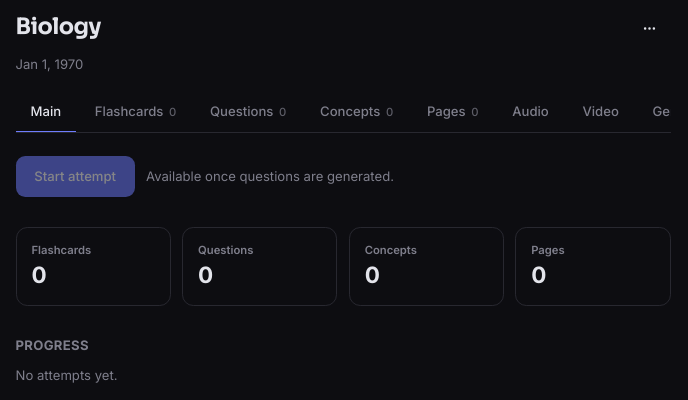
PrepPage concepts › shows an empty state when the prep has no concepts
The width and height of the screenshot is (688, 400).
What coordinates should you click on to do the following:
click the tab "Concepts0"
I would click on:
 (357, 113)
Its box is [305, 92, 408, 133].
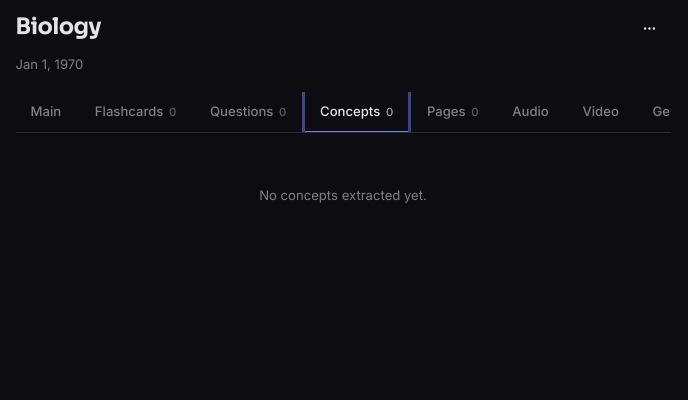
Expected: the text "No concepts extracted yet." is shown, [259, 187, 427, 203]
